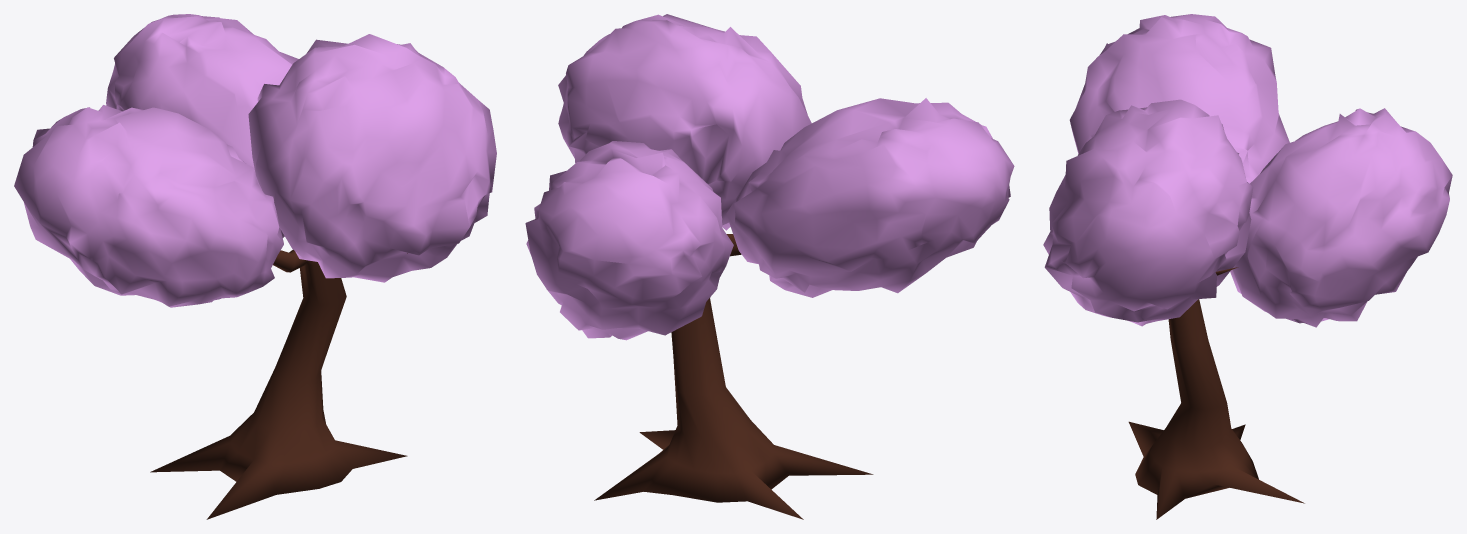
Rendered from treelow.gltf.
The picture shows the model from 3 angles, left to right: view 1: azimuth 30°, elevation 25°; view 2: azimuth 150°, elevation 25°; view 3: azimuth 270°, elevation 25°; orthographic projection. The views are drawn at different scales.
Parts seen in each view (by area): view 1: Cube.015, Cube.003, Cube.001, Cube.005; view 2: Cube.003, Cube.005, Cube.015, Cube.001; view 3: Cube.015, Cube.005, Cube.003, Cube.001.
Boxes of the visible parts, x1=… form: Cube.015: x1=248, y1=34, x2=496, y2=282; Cube.003: x1=14, y1=105, x2=283, y2=307; Cube.001: x1=150, y1=250, x2=407, y2=519; Cube.005: x1=106, y1=14, x2=298, y2=237; Cube.003: x1=726, y1=98, x2=1014, y2=297; Cube.005: x1=525, y1=141, x2=733, y2=340; Cube.015: x1=558, y1=14, x2=811, y2=230; Cube.001: x1=594, y1=234, x2=873, y2=519; Cube.015: x1=1043, y1=99, x2=1253, y2=326; Cube.005: x1=1230, y1=108, x2=1452, y2=327; Cube.003: x1=1069, y1=14, x2=1289, y2=183; Cube.001: x1=1128, y1=267, x2=1304, y2=519.
Bounding box in the file's own units: 21.12 × 19.05 × 18.12.
